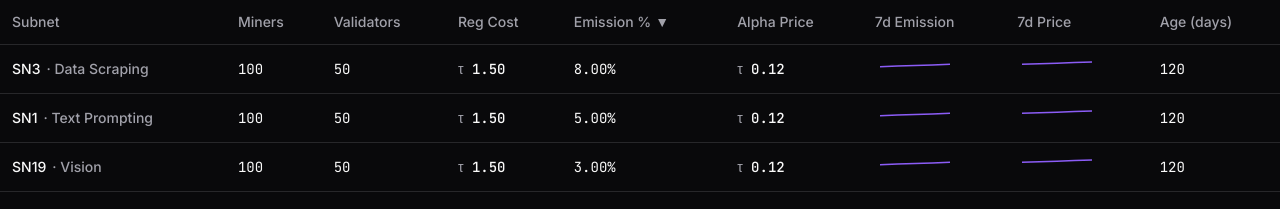
it: ScreenerTable › clicking same column header toggles sort direction
This screenshot has width=1280, height=209.
Expected: the text "▼" is shown, [655, 13, 669, 30]
Note: Click emission header to toggle to asc
Click the column heading "Emission %".
click(643, 22)  # box [562, 0, 725, 44]
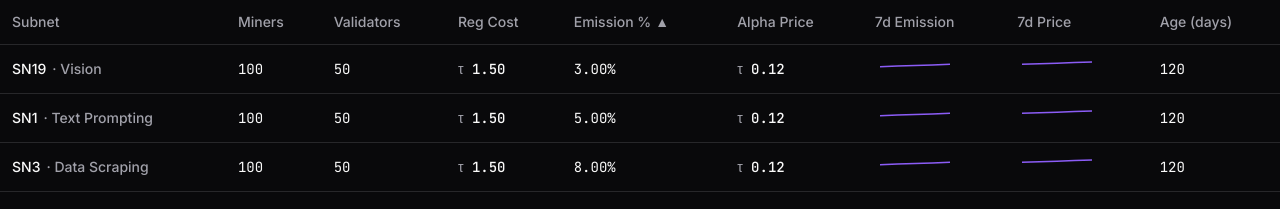
Expected: the text "▲" is shown, [655, 13, 669, 30]
